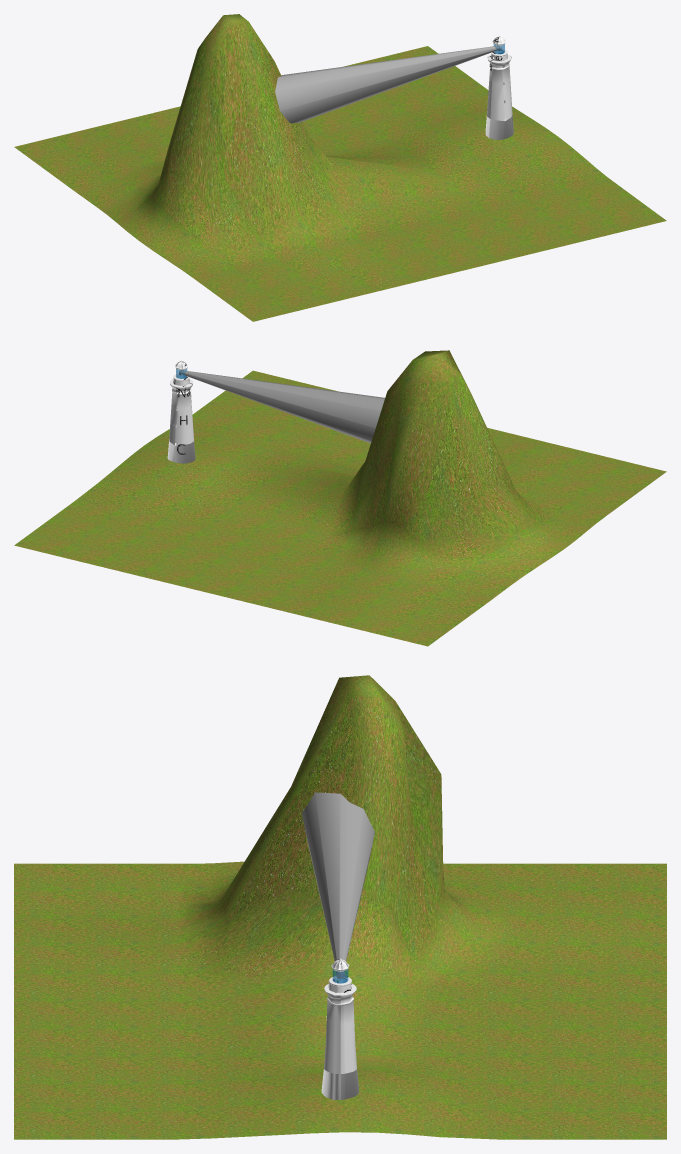
Rendered from level 1.fbx.
The picture shows the model from 3 angles, top to bottom: view 1: azimuth 30°, elevation 25°; view 2: azimuth 150°, elevation 25°; view 3: azimuth 270°, elevation 25°; orthographic projection. The views are drawn at different scales.
Parts seen in each view (by area): view 1: pPlane1, pCylinder3, Level_1; view 2: pPlane1, pCylinder3, Level_1; view 3: pPlane1, pCylinder3, Level_1.
Part boxes in pixels (bbox=[...]): pPlane1: bbox=[14, 14, 666, 321]; pCylinder3: bbox=[275, 46, 499, 123]; Level_1: bbox=[485, 36, 513, 139]; pPlane1: bbox=[14, 350, 666, 646]; pCylinder3: bbox=[181, 370, 384, 443]; Level_1: bbox=[167, 360, 195, 463]; pPlane1: bbox=[14, 675, 666, 1139]; pCylinder3: bbox=[302, 792, 374, 977]; Level_1: bbox=[321, 958, 359, 1099].
Size of the model in its own units: 5041 by 2143 by 4965.
